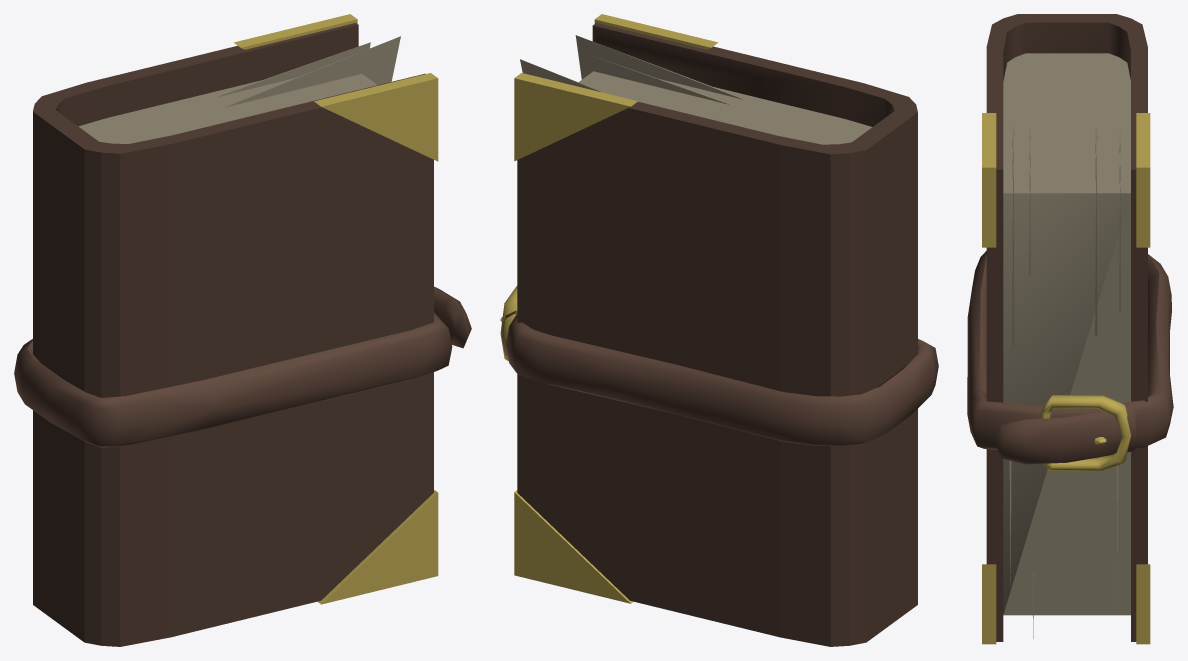
The model's file is book.glb.
3 views of the same model, side by side, from view 1: azimuth 30°, elevation 25°; view 2: azimuth 150°, elevation 25°; view 3: azimuth 270°, elevation 25° (orthographic). The views are drawn at different scales.
Visible parts, largest first — view 1: book; view 2: book; view 3: book.
Part boxes in pixels (x1,y1,x2,y2): book: [14, 14, 471, 646]; book: [500, 14, 938, 646]; book: [967, 14, 1173, 644].
Size of the model in its own units: 0.1828 by 0.22 by 0.0853.
